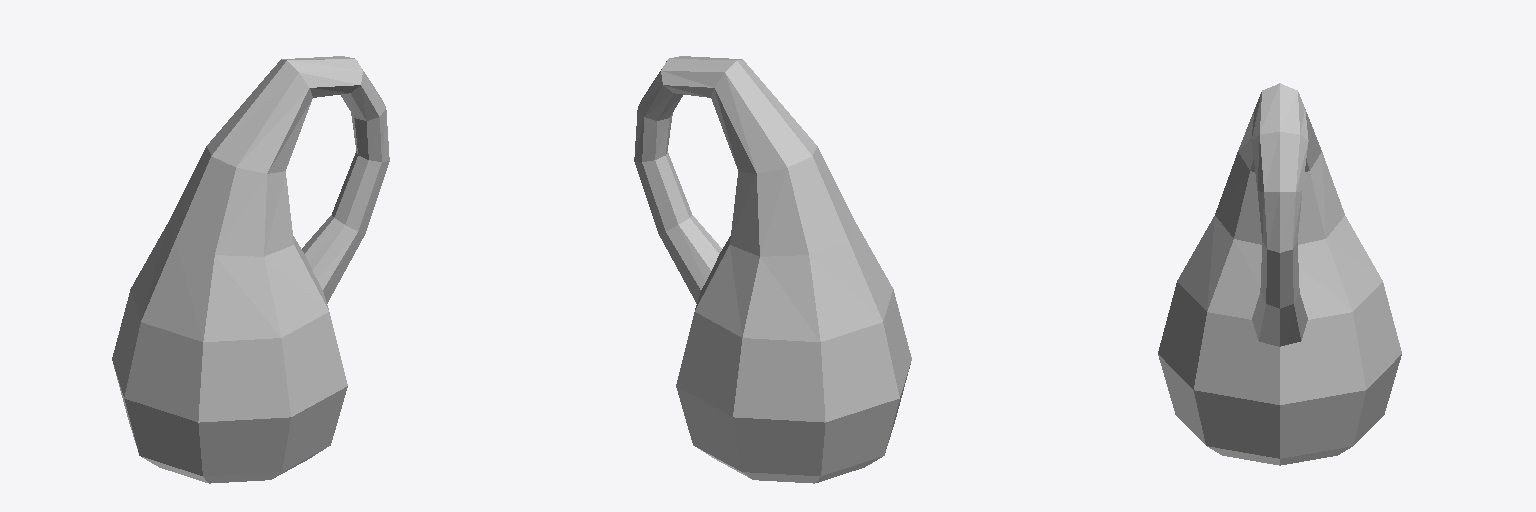
File: klein.obj
3 renders of one model, left to right at view 1: azimuth 30°, elevation 25°; view 2: azimuth 150°, elevation 25°; view 3: azimuth 270°, elevation 25°, orthographic.
Visible parts, largest first — view 1: Klein_Cylinder; view 2: Klein_Cylinder; view 3: Klein_Cylinder.
Boxes of the visible parts, <box> form: Klein_Cylinder: <box>112,56,389,483</box>; Klein_Cylinder: <box>634,56,911,483</box>; Klein_Cylinder: <box>1158,83,1401,465</box>.
Size of the model in its own units: 2.63 by 3.58 by 2.11.